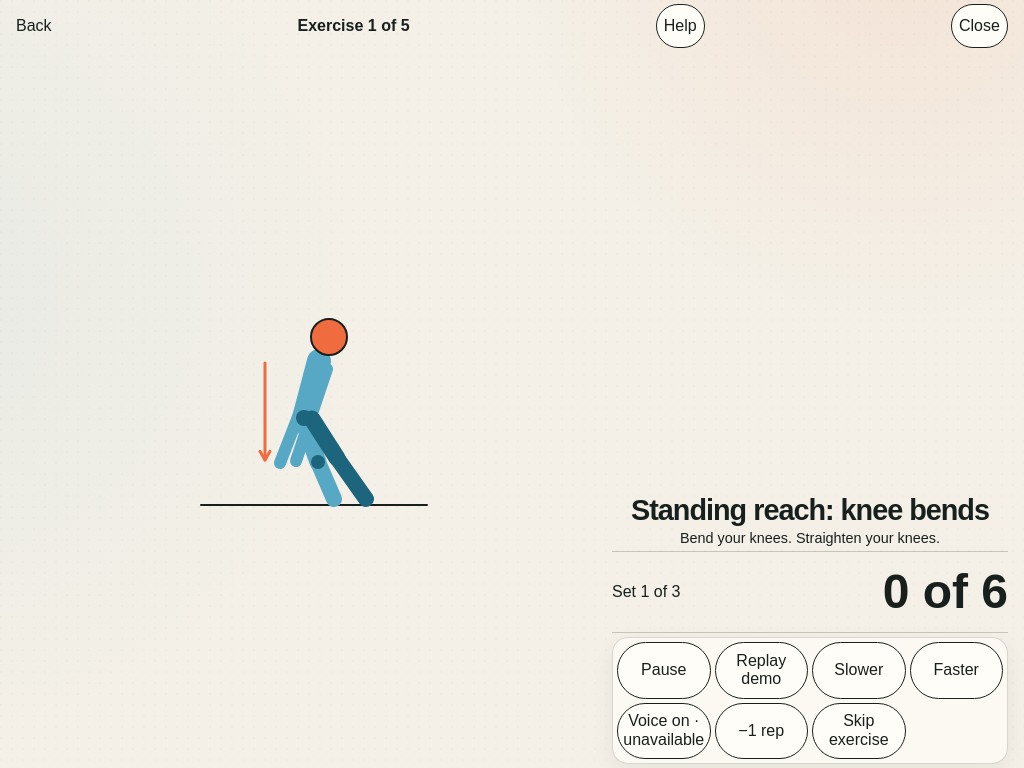
Scenario: SessionPlayer › keeps safety and illustration help available from the top rail with exact approved copy
Step 1. Click the button "Help" → point(680, 26), box [656, 4, 705, 48]
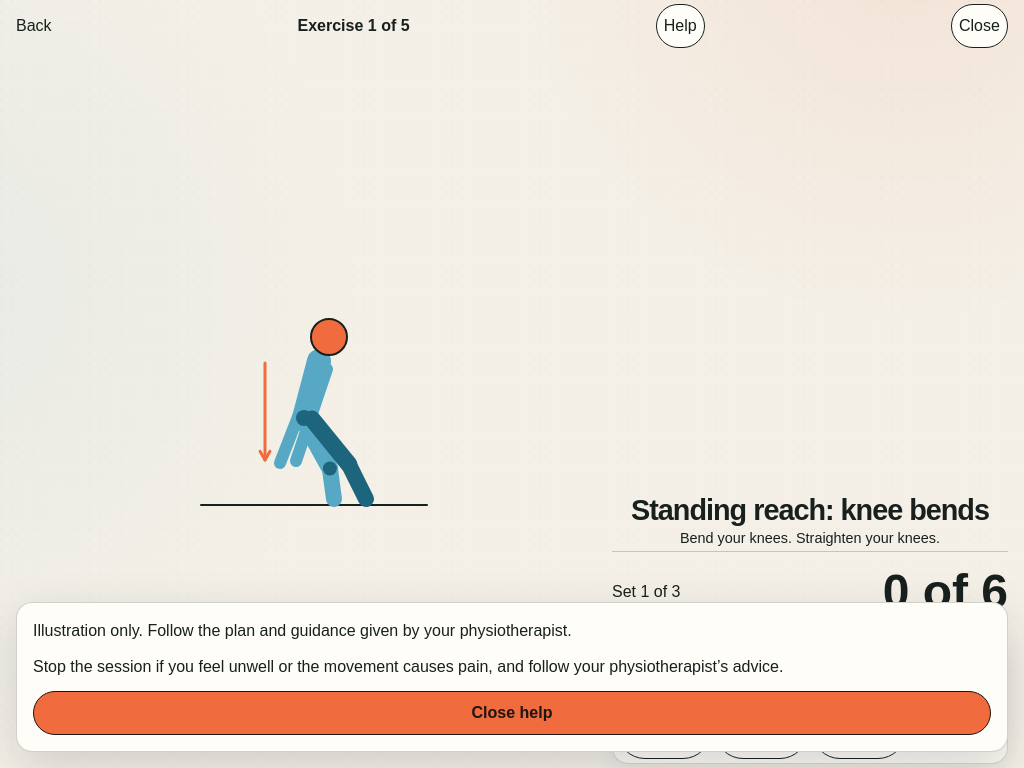
Now the element named "Safety and illustration help" is shown, box [16, 602, 1008, 752]
Now the text "Illustration only. Follow the plan and guidance given by your physiotherapist." is shown, box [33, 622, 572, 639]
Now the text "Stop the session if you feel unwell or the movement causes pain, and follow your physiotherapist’s advice." is shown, box [33, 658, 783, 675]
